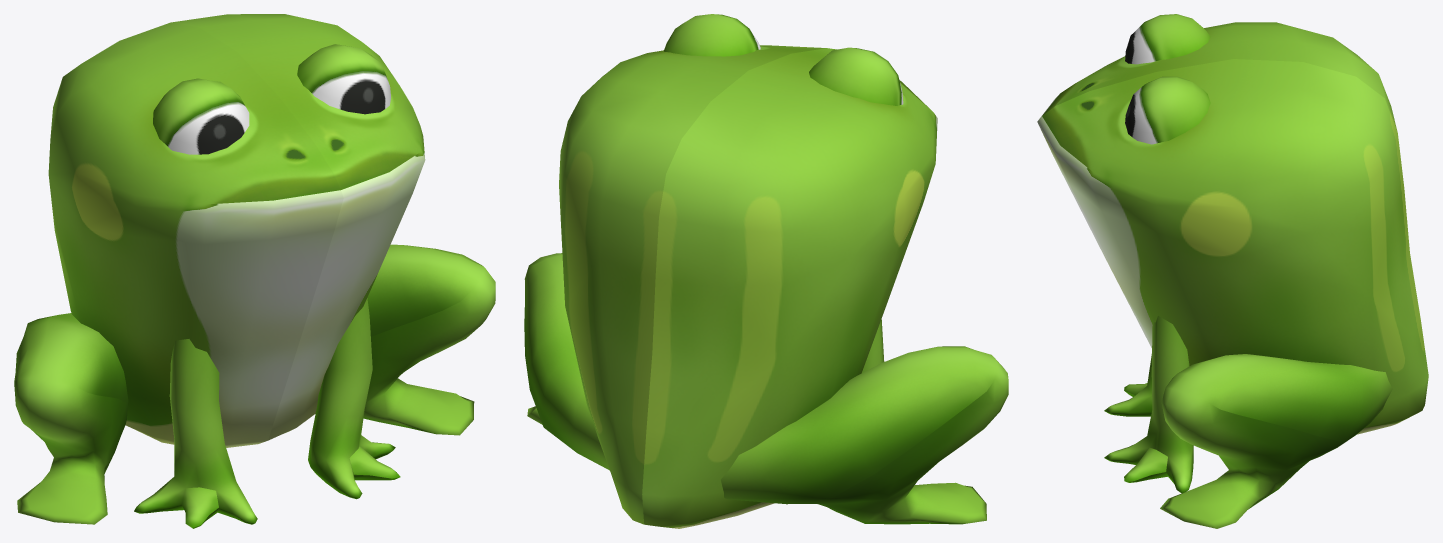
The model's file is frog.gltf.
3 views of the same model, side by side, from view 1: azimuth 30°, elevation 25°; view 2: azimuth 150°, elevation 25°; view 3: azimuth 270°, elevation 25° (orthographic). The views are drawn at different scales.
Visible parts, largest first — view 1: frog; view 2: frog; view 3: frog.
Part boxes in pixels (x1,y1,x2,y2): frog: [14, 14, 495, 528]; frog: [524, 14, 1008, 528]; frog: [1037, 14, 1428, 528].
Bounding box in the file's own units: 1.01 × 0.8621 × 0.7871.
Materials: 1 (1 with a texture image).
